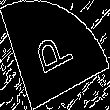P_W: (31, 28, 79, 82)
